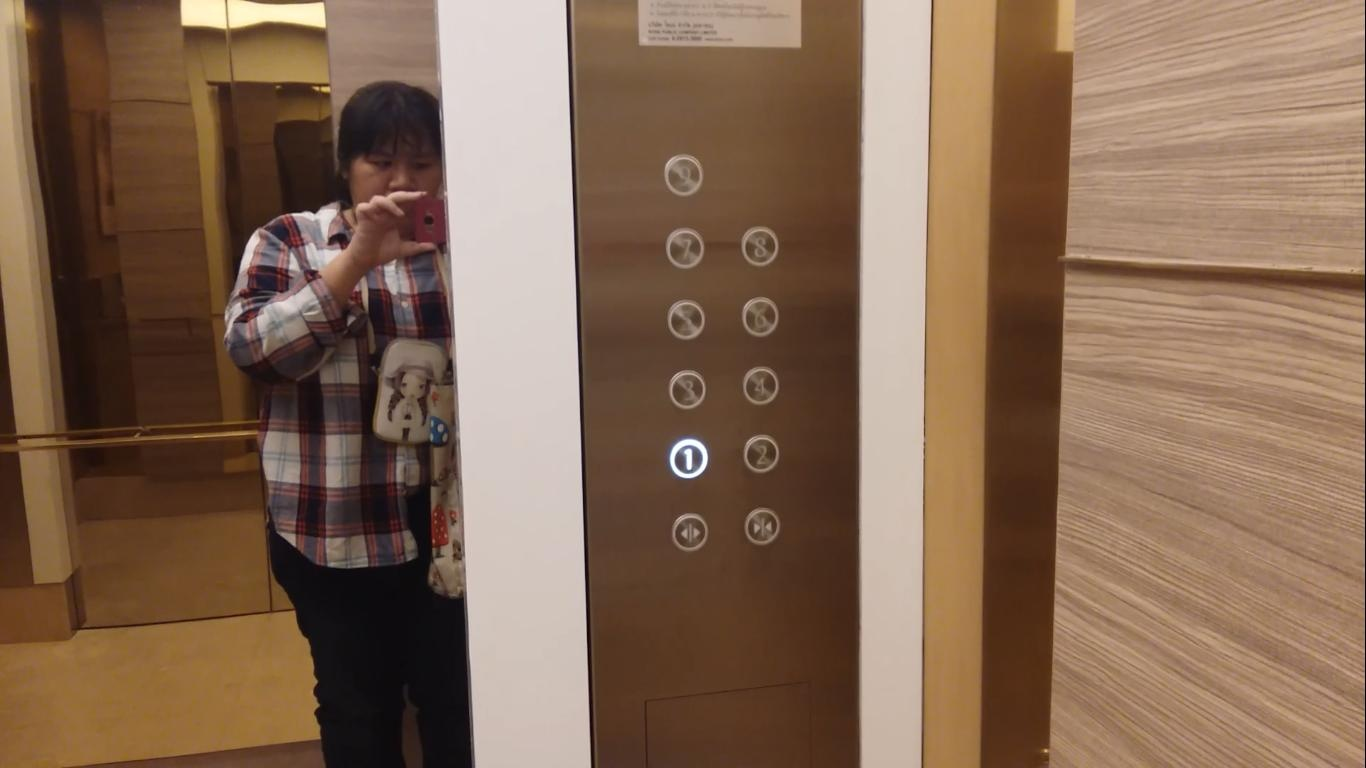1: (668, 438, 708, 479)
2: (743, 435, 780, 472)
3: (668, 370, 706, 409)
4: (742, 367, 779, 404)
5: (667, 300, 705, 339)
6: (741, 297, 779, 336)
7: (664, 227, 705, 268)
8: (741, 226, 779, 265)
9: (663, 154, 703, 196)
close: (743, 507, 780, 545)
open: (670, 513, 709, 551)
